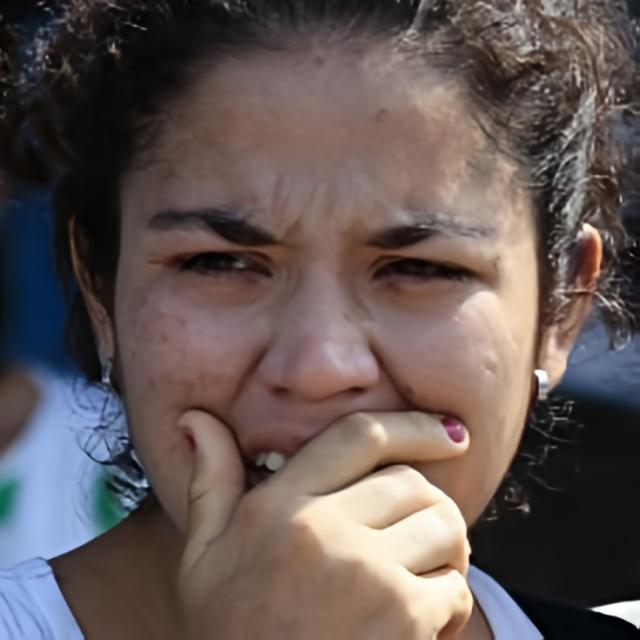sad: (111, 43, 538, 576)
